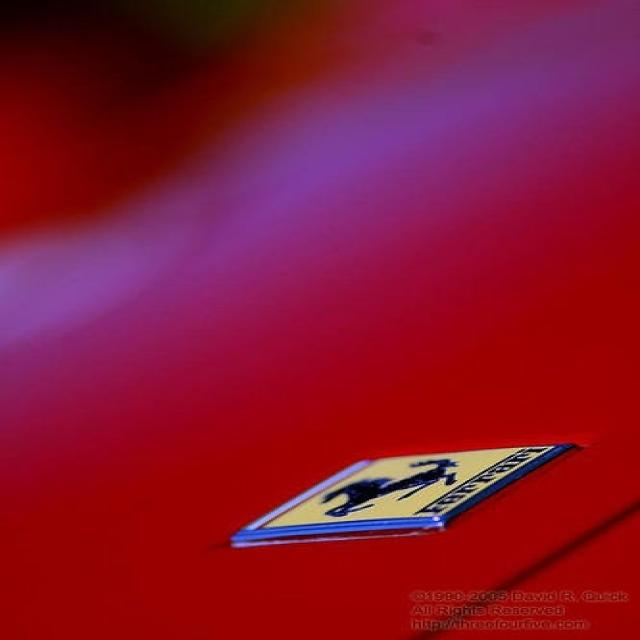ferrari: (259, 443, 557, 531)
